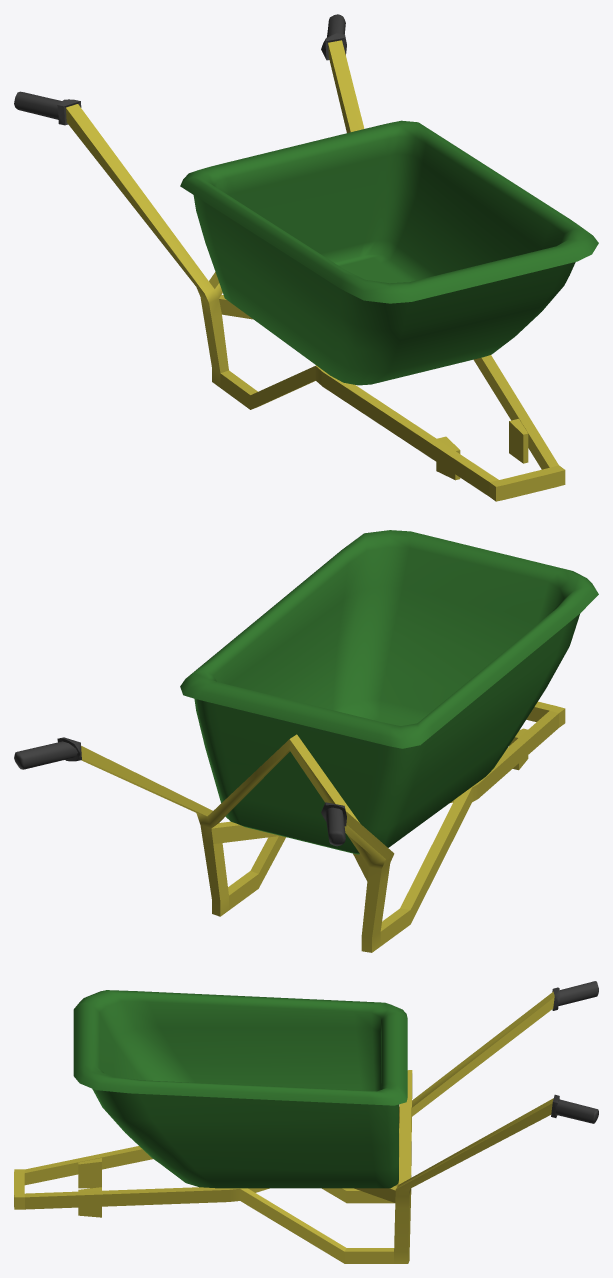
File: wheelbarrow.fbx
3 views of the same model, one above another, from view 1: azimuth 30°, elevation 25°; view 2: azimuth 150°, elevation 25°; view 3: azimuth 270°, elevation 25° (orthographic). The views are drawn at different scales.
Parts seen in each view (by area): view 1: pCube13; view 2: pCube13; view 3: pCube13.
Part boxes in pixels (x1=…): pCube13: x1=14, y1=14, x2=598, y2=501; pCube13: x1=14, y1=530, x2=598, y2=952; pCube13: x1=14, y1=981, x2=598, y2=1263.
Bounding box in the file's own units: 1.46 × 1.01 × 2.71.
